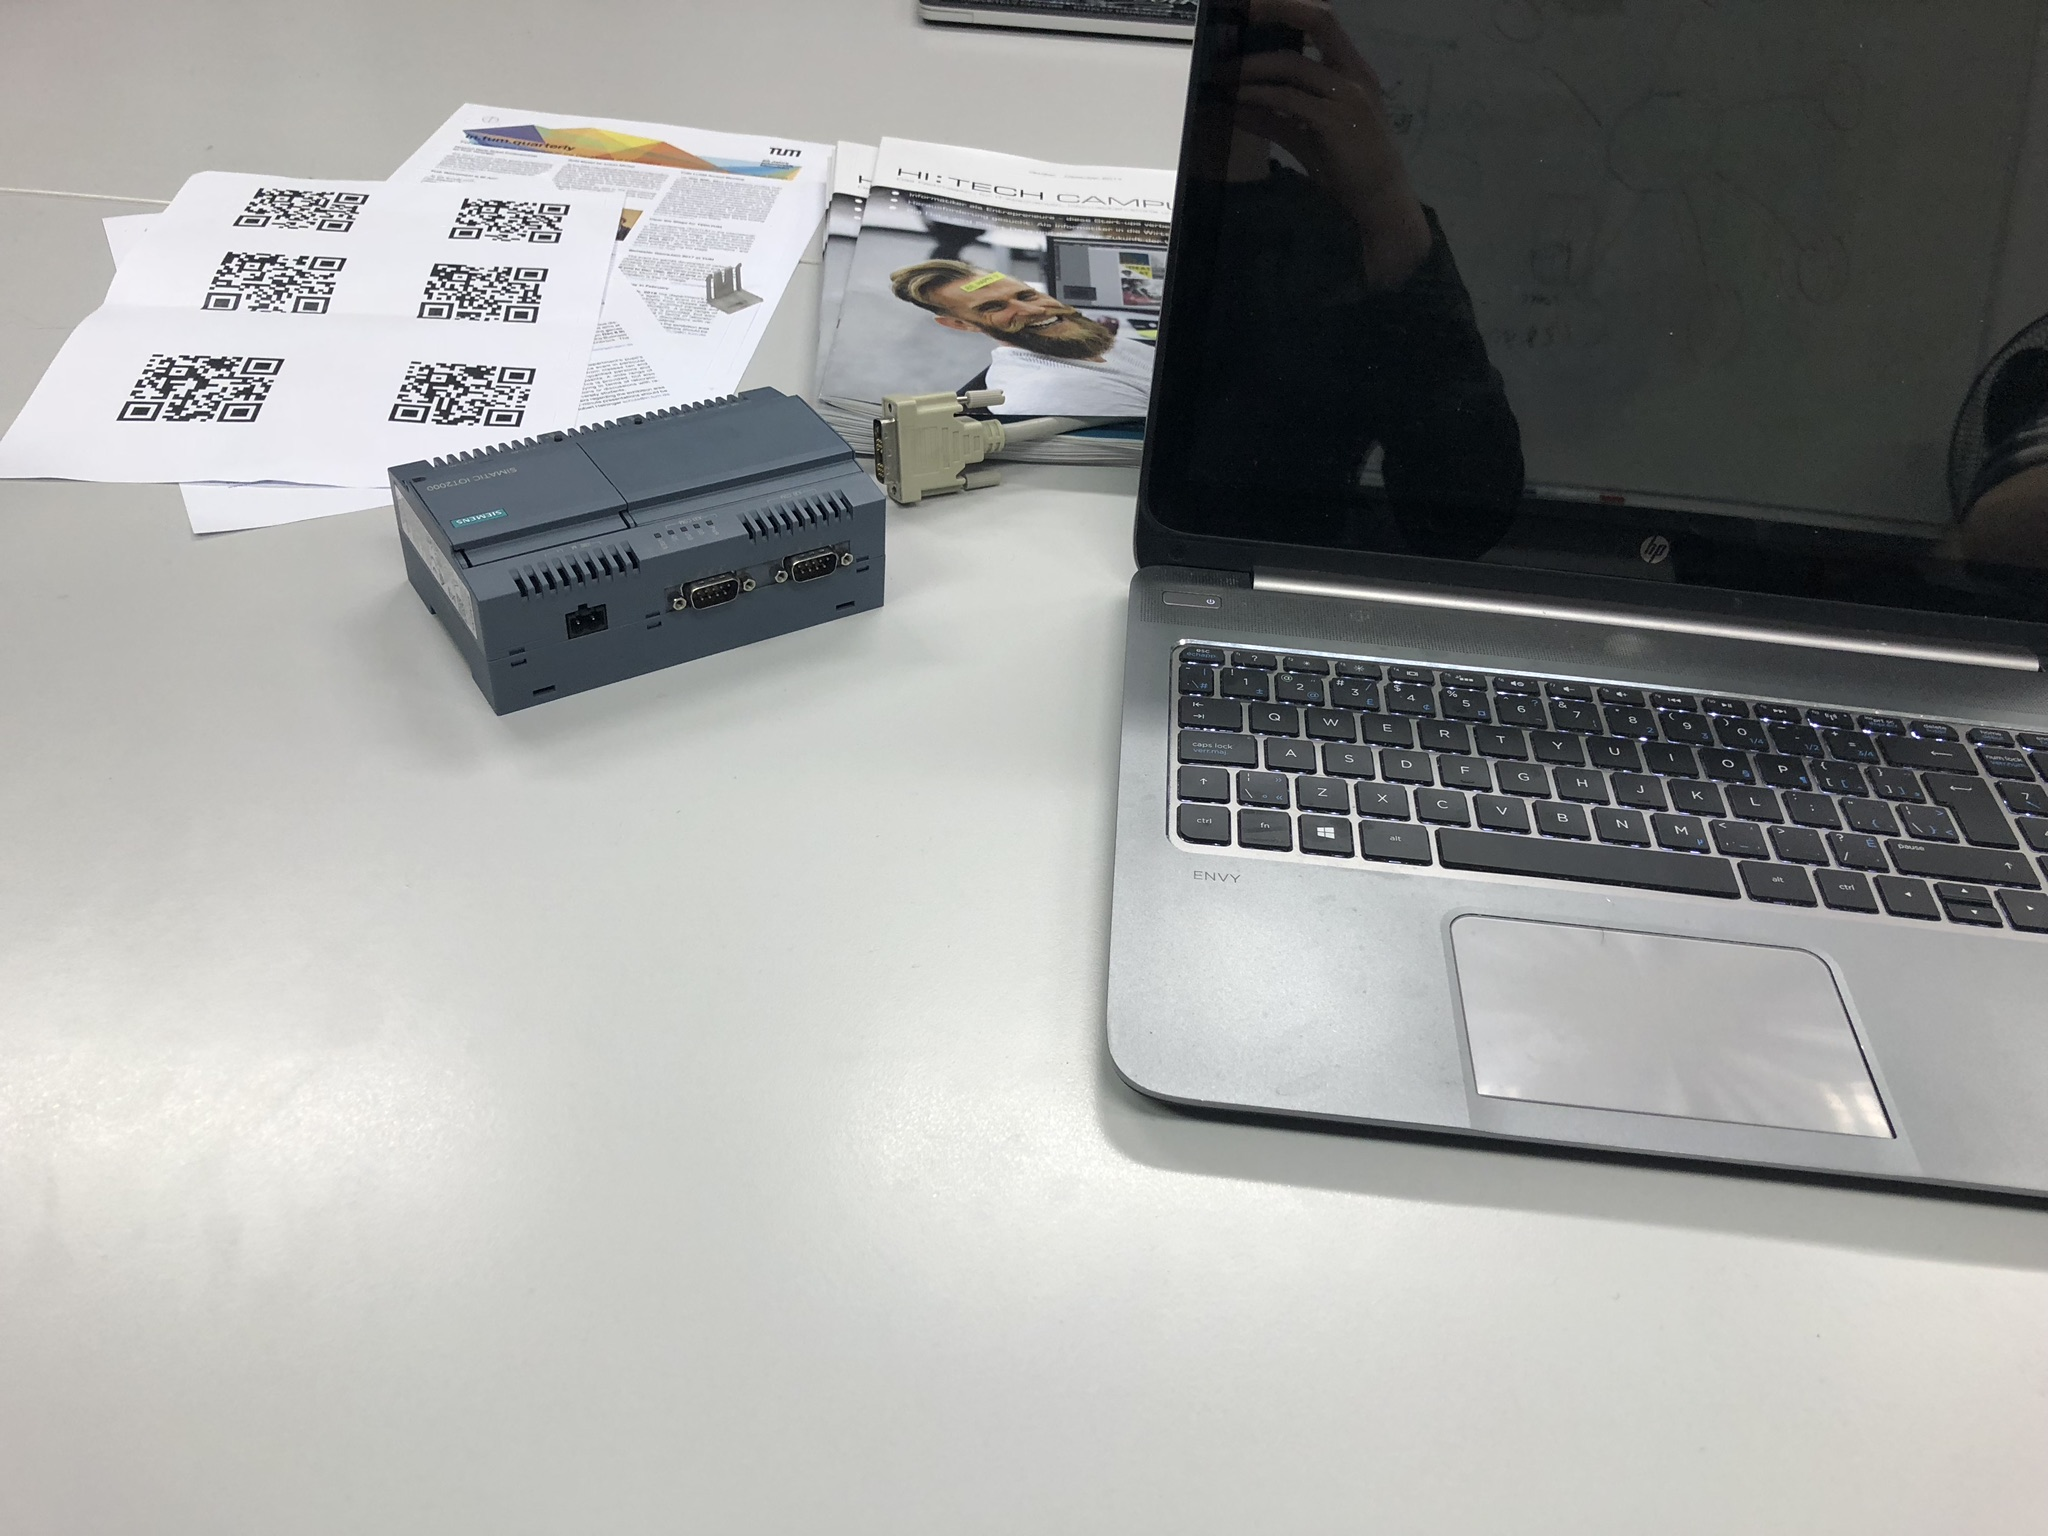device: (389, 386, 889, 716)
